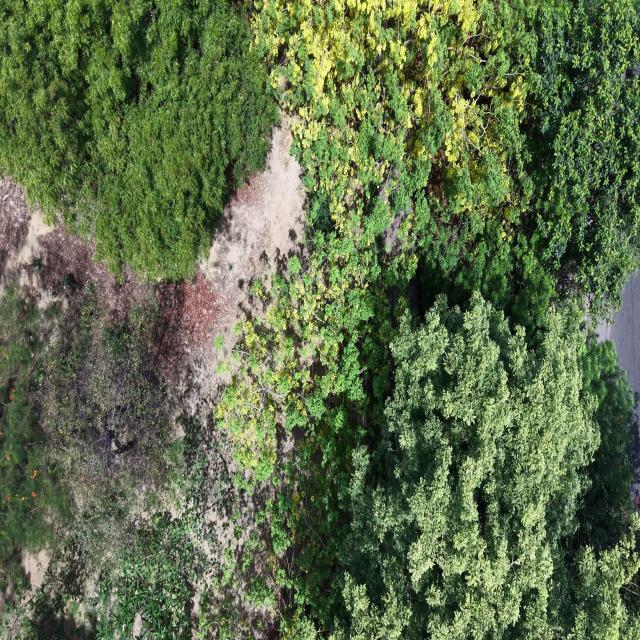DRY_AREA: (0, 118, 303, 414), (172, 128, 303, 437), (170, 119, 303, 414), (156, 119, 303, 381), (190, 129, 303, 401), (202, 129, 303, 320), (0, 185, 147, 316), (0, 177, 52, 303), (598, 273, 639, 393), (598, 274, 639, 391), (0, 177, 31, 273)
PATHWAYS: (598, 273, 639, 392)
VEGETATION_TREE: (0, 0, 639, 639), (225, 2, 639, 637), (18, 294, 639, 638), (225, 293, 639, 638), (254, 0, 639, 330), (333, 295, 639, 638), (0, 285, 272, 639), (0, 0, 277, 279), (0, 286, 180, 639), (41, 287, 172, 570), (527, 0, 639, 314), (0, 286, 66, 588), (97, 514, 205, 639), (576, 334, 637, 551), (0, 529, 95, 639)
